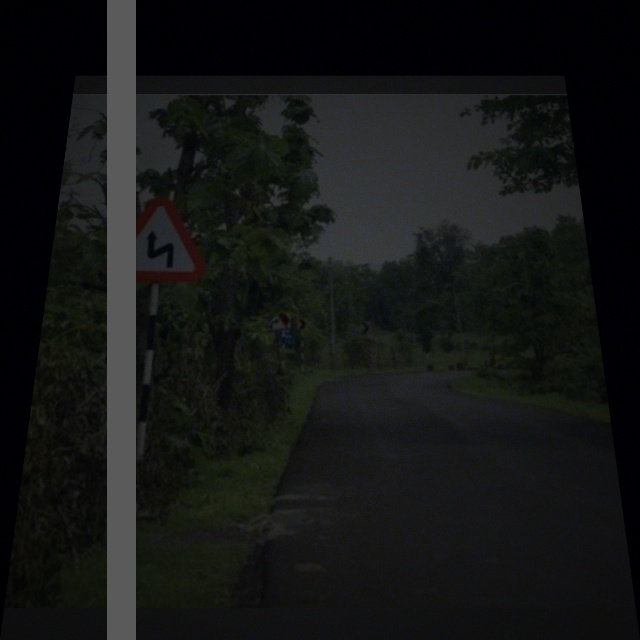Left_Reverse_Bend: (108, 197, 207, 283)
